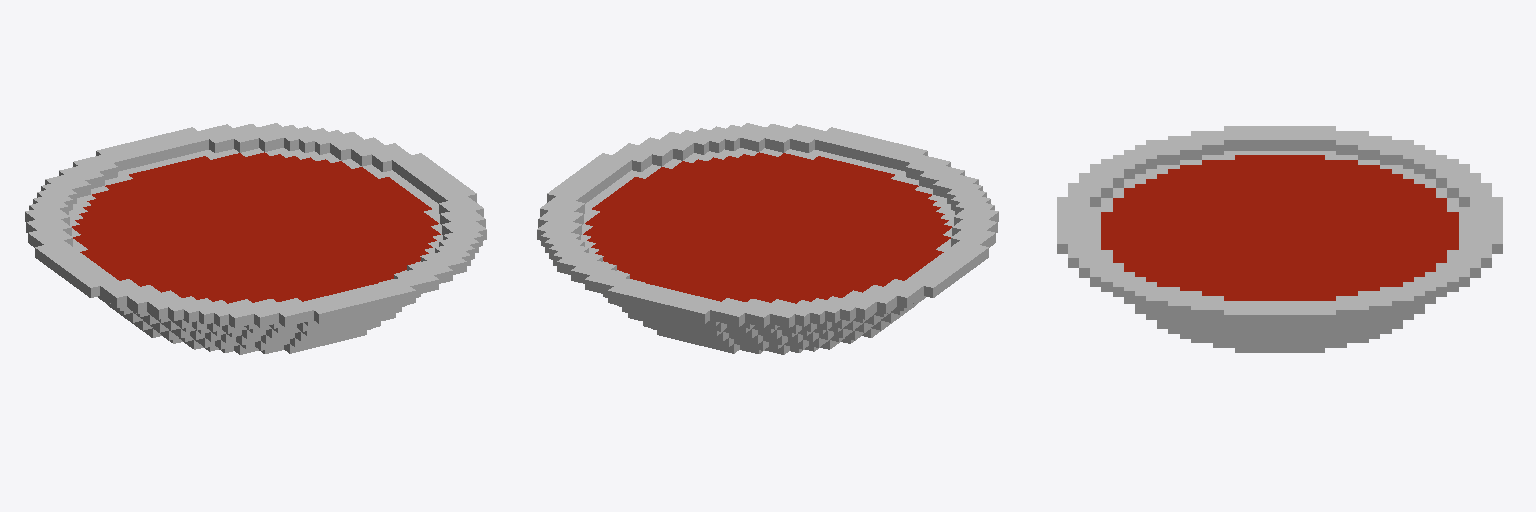
The picture shows the model from 3 angles: view 1: azimuth 30°, elevation 25°; view 2: azimuth 150°, elevation 25°; view 3: azimuth 270°, elevation 25°; orthographic projection.
Parts seen in each view (by area): view 1: object 1; view 2: object 1; view 3: object 1.
Boxes of the visible parts, box(x1,y1,x2,y2) form: object 1: box(25, 123, 486, 354); object 1: box(537, 123, 998, 354); object 1: box(1057, 126, 1502, 352).
Bounding box in the file's own units: 4 × 0.7 × 4.
Materials: 1 (1 with a texture image).